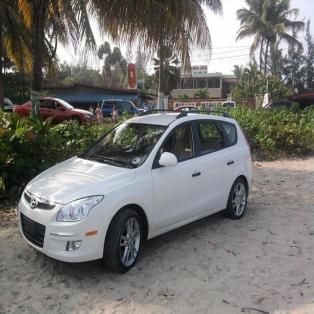Auto: (17, 108, 253, 266)
